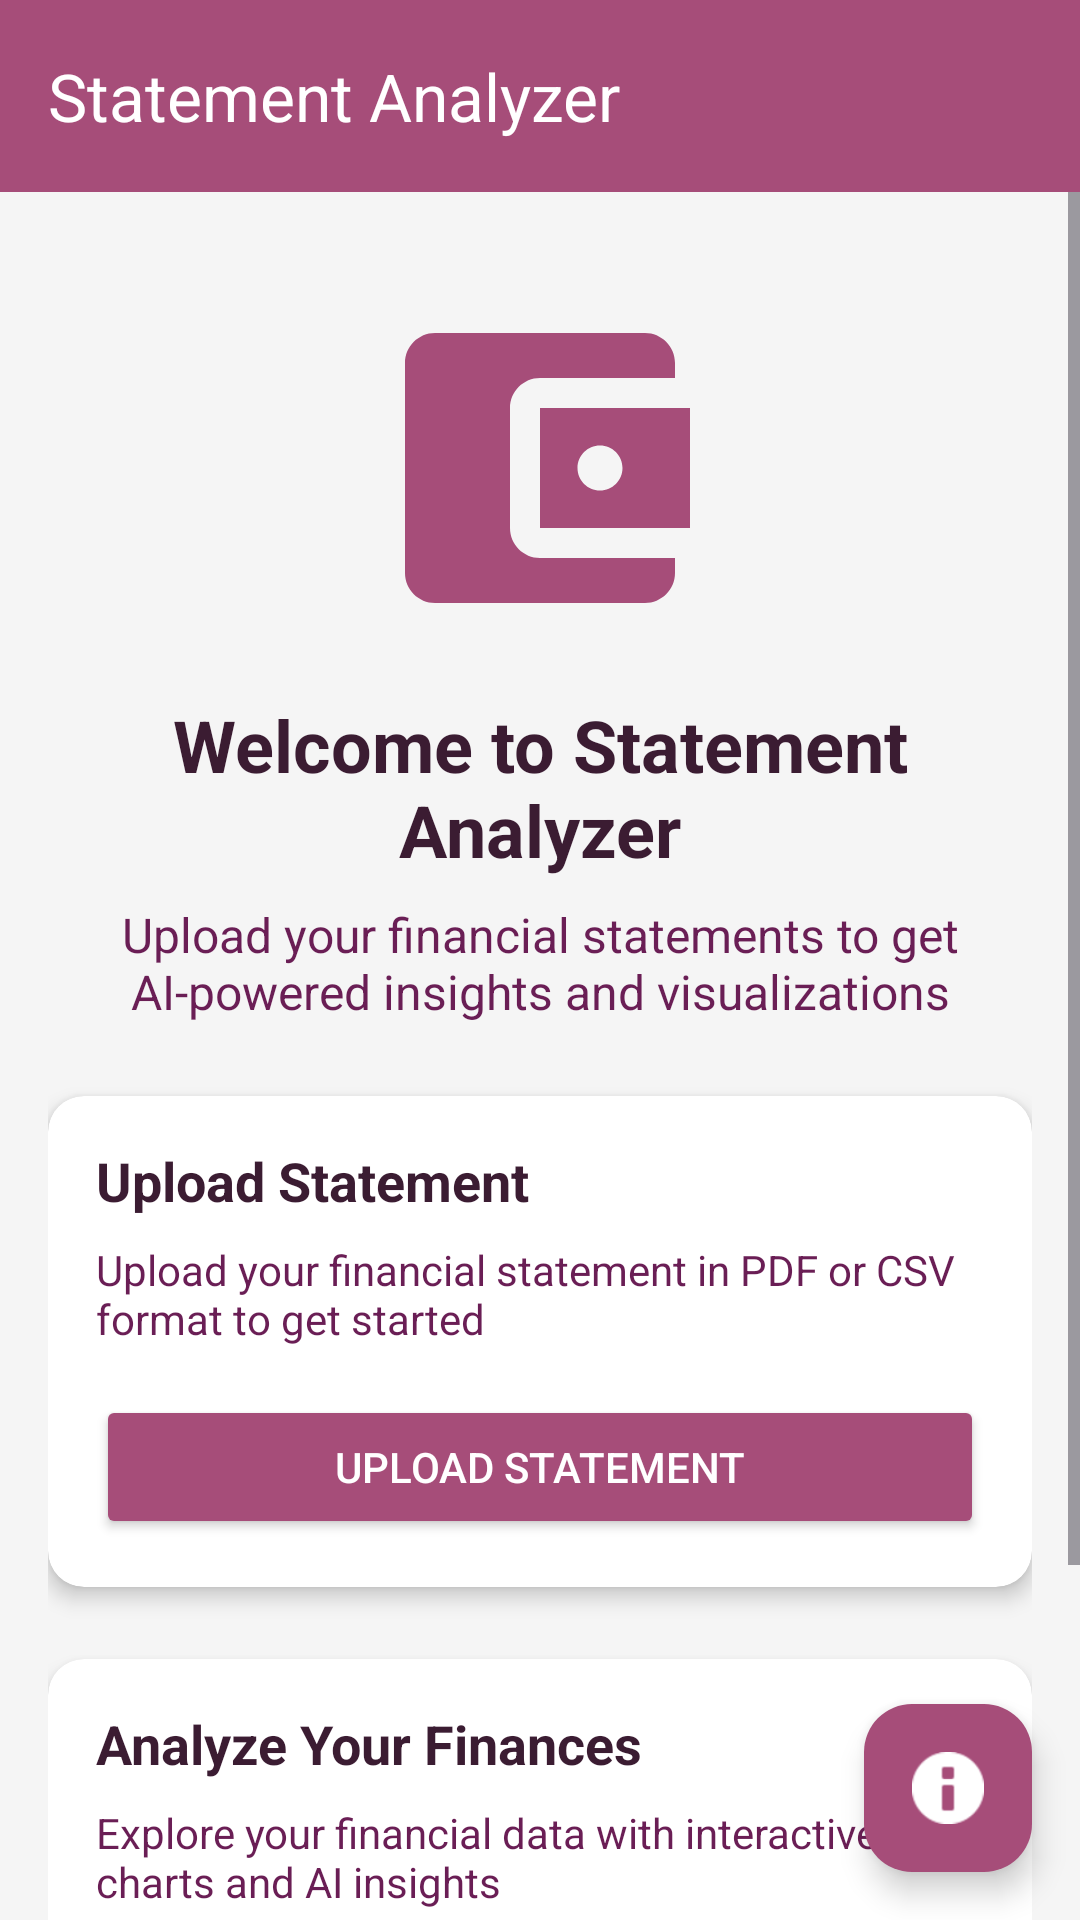

Screen size 1080*1920. Icon name, then its box in pixels as {"x1": x1, "y1": y1, "x2": x2, "y2": y2}:
Help: {"x1": 864, "y1": 1704, "x2": 1032, "y2": 1872}
